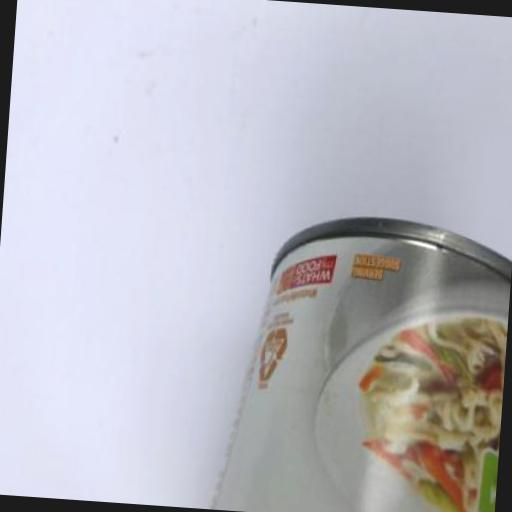metal: (211, 205, 512, 512)
